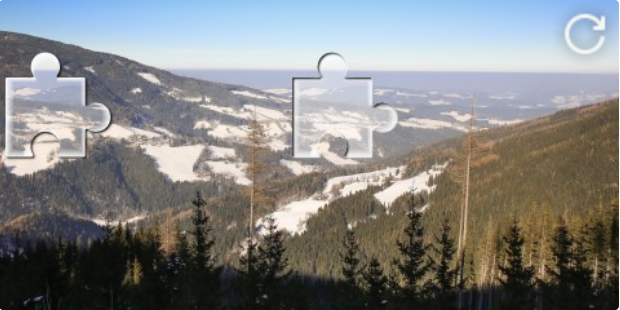target: (293, 52, 397, 157)
